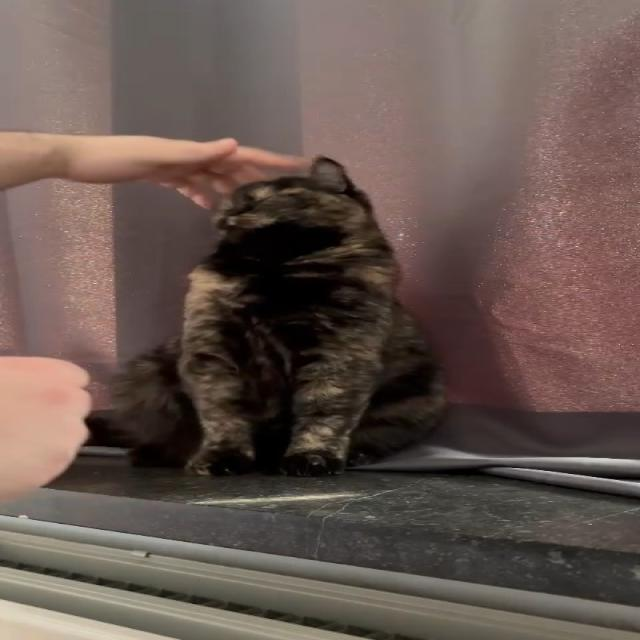authorized: (87, 154, 448, 477)
